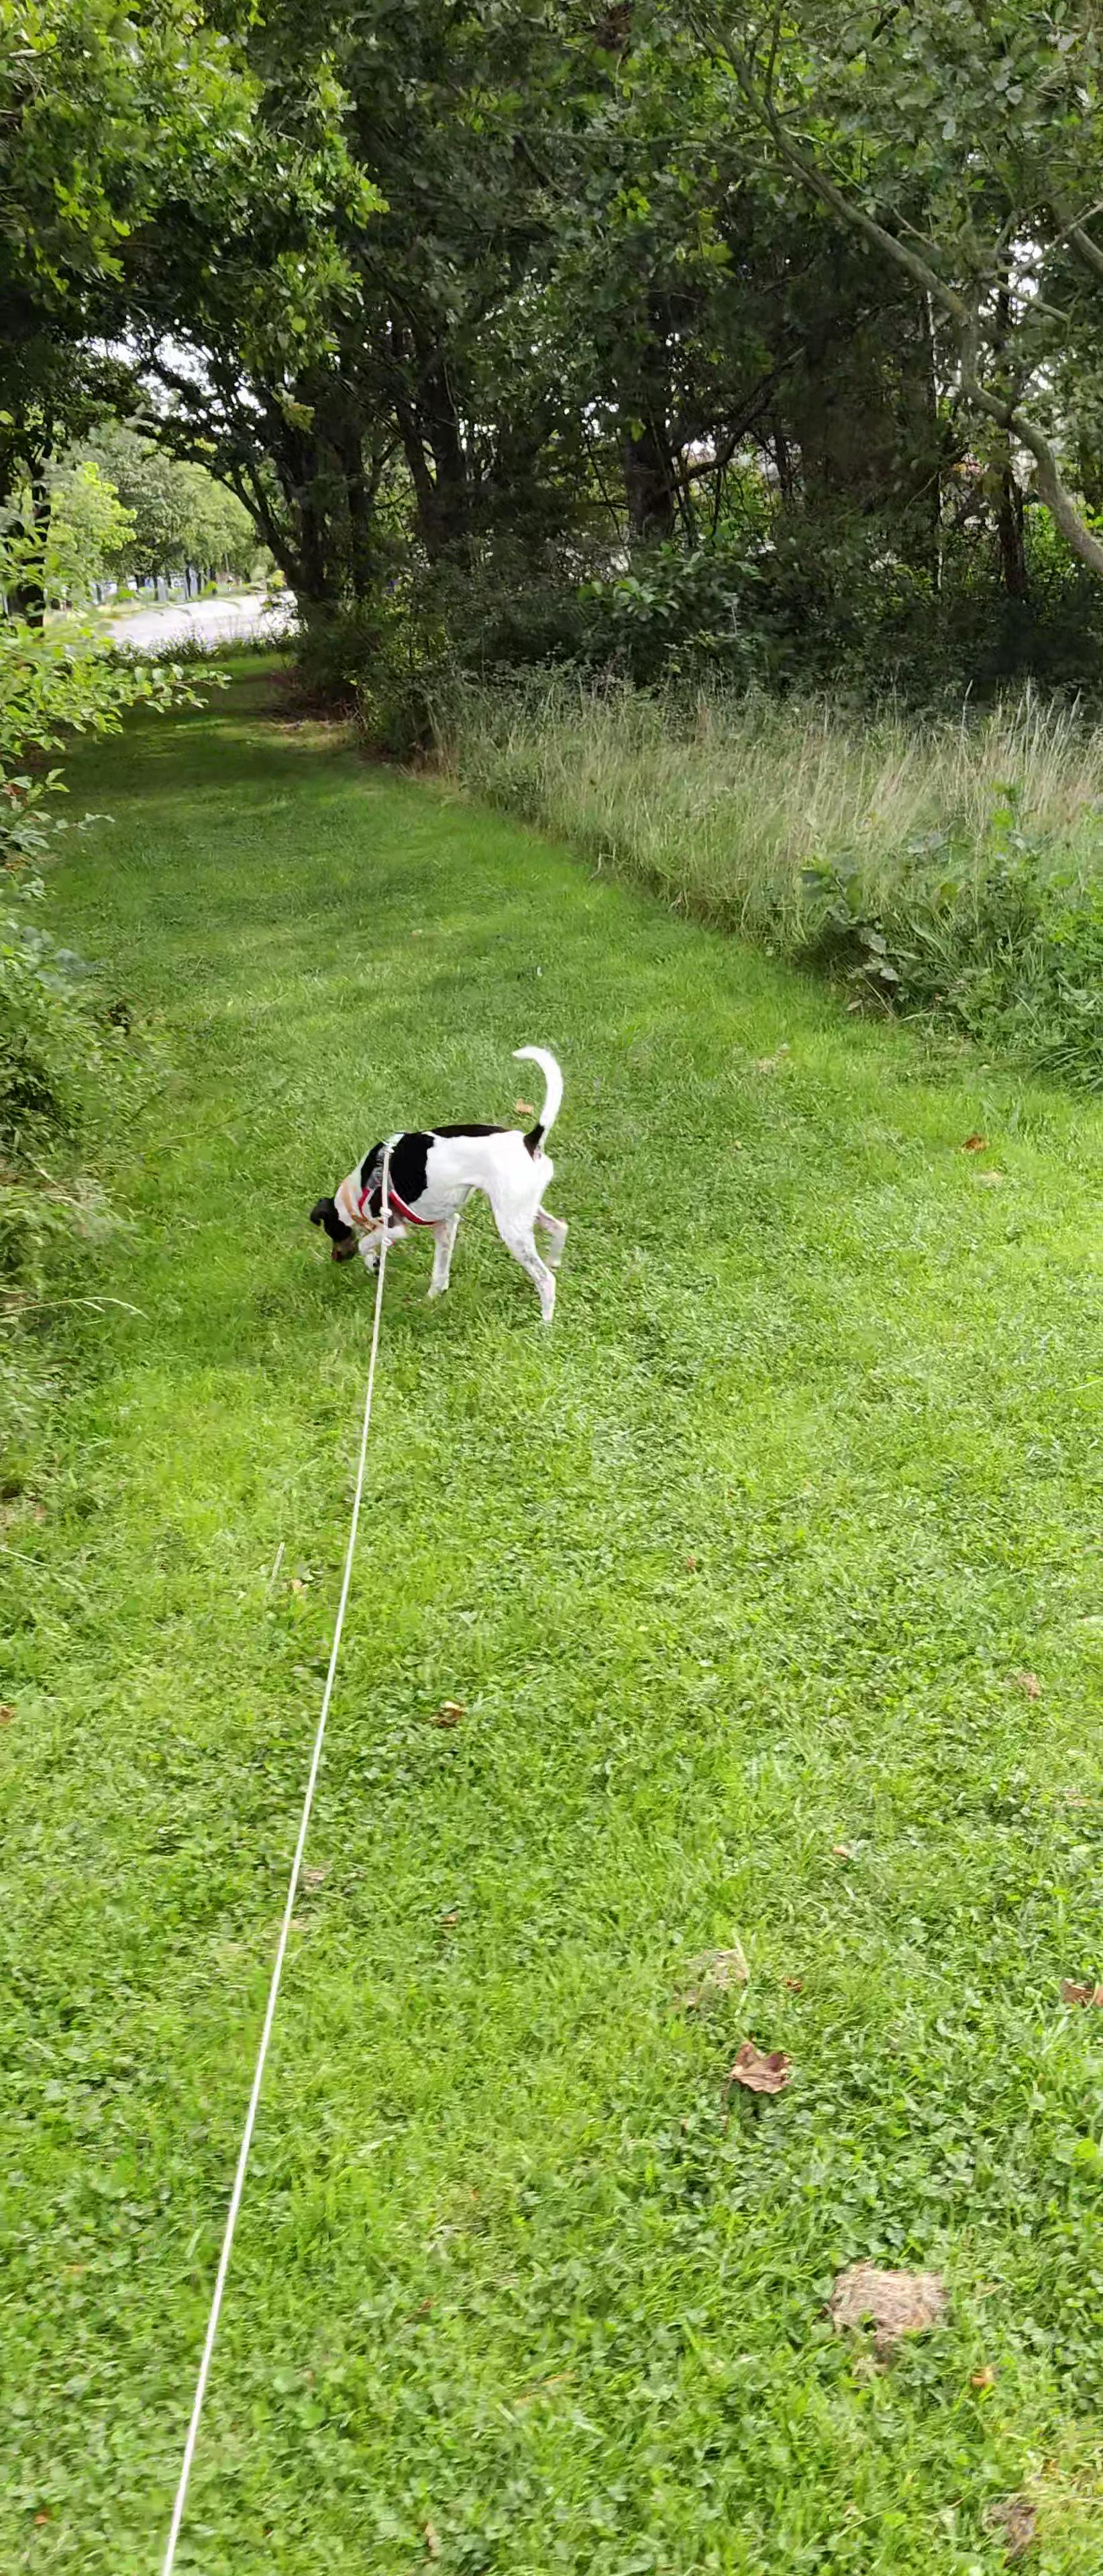Dog: (281, 1037, 593, 1336)
